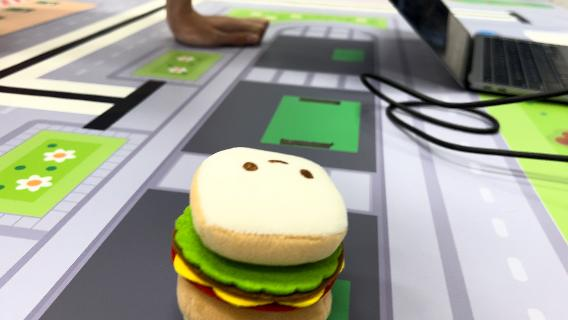sandwich: (170, 144, 350, 318)
